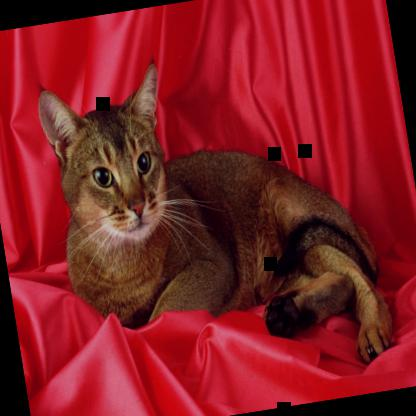cat: (34, 32, 398, 412)
